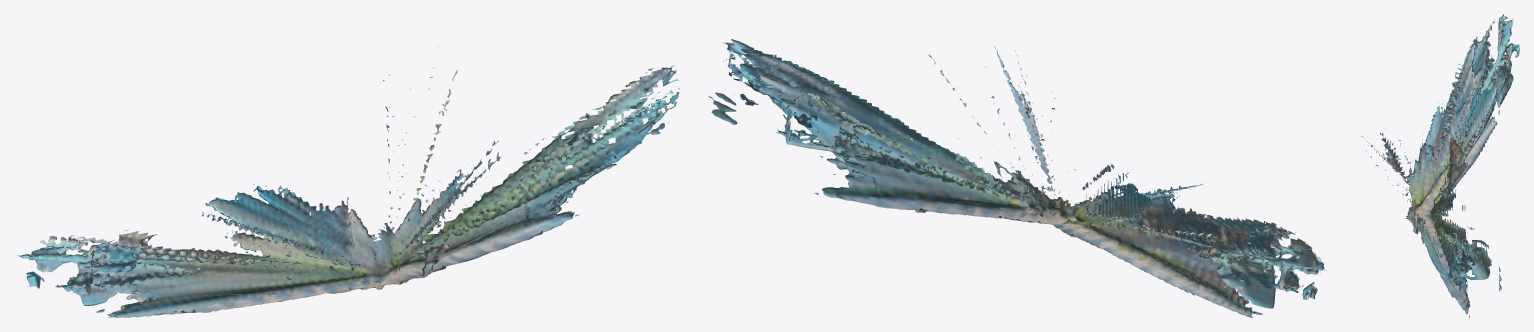
The model's file is colliders.glb.
3 views of the same model, side by side, from view 1: azimuth 30°, elevation 25°; view 2: azimuth 150°, elevation 25°; view 3: azimuth 270°, elevation 25° (orthographic). The views are drawn at different scales.
Visible parts, largest first — view 1: world; view 2: world; view 3: world.
Part boxes in pixels (left/top/right/bottom): world: left=14, top=46, right=679, bottom=317; world: left=708, top=39, right=1326, bottom=317; world: left=1361, top=14, right=1519, bottom=317.
Bounding box in the file's own units: 524 × 181 × 131.
